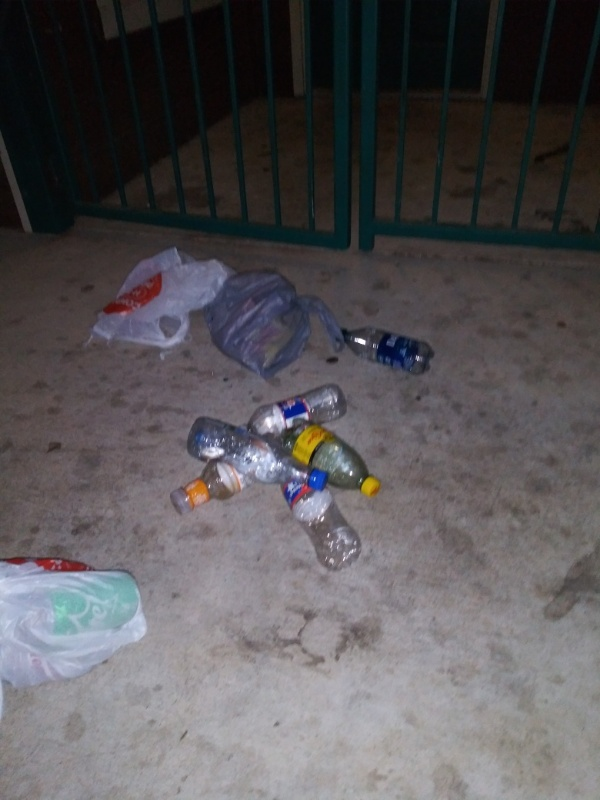bottle: (265, 452, 366, 573), (183, 414, 332, 495), (168, 430, 288, 520), (278, 415, 382, 499), (234, 382, 349, 443), (329, 324, 437, 379)
